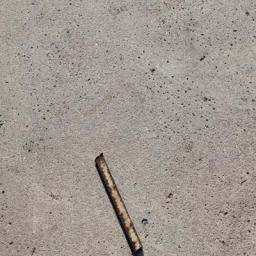FOD: (93, 149, 148, 256)
